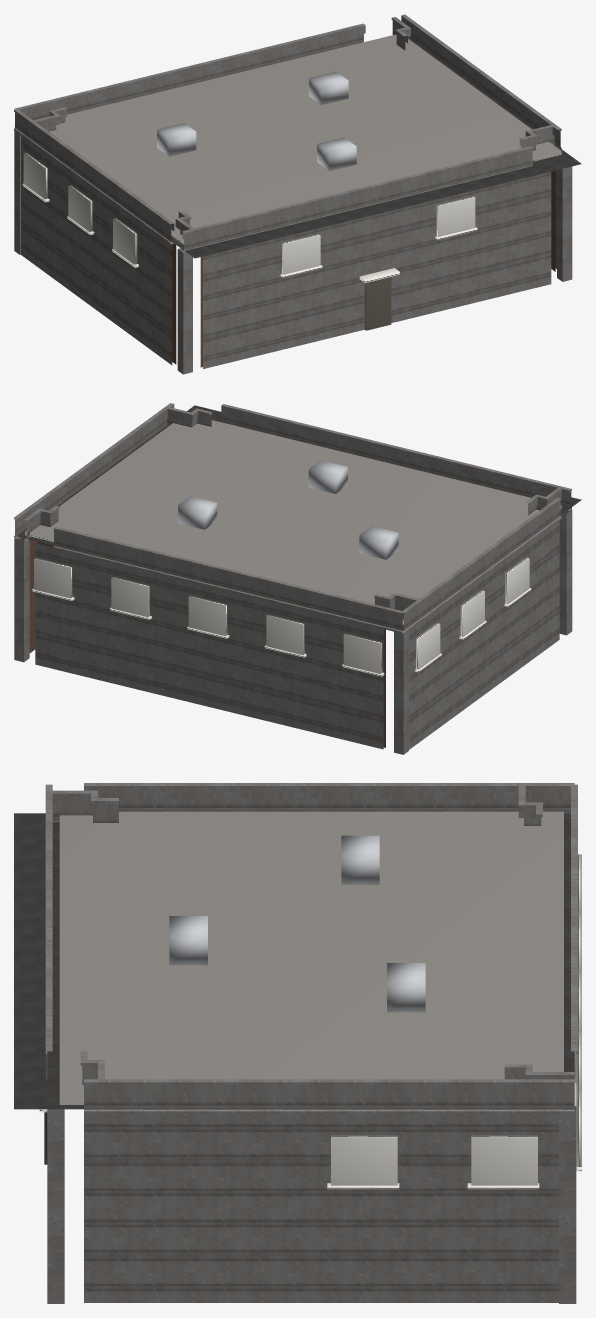
Rendered from b_ware2.gltf.
3 renders of one model, top to bottom at view 1: azimuth 30°, elevation 25°; view 2: azimuth 150°, elevation 25°; view 3: azimuth 270°, elevation 25°, orthographic. The views are drawn at different scales.
Visible parts, largest first — view 1: b_ware2; view 2: b_ware2; view 3: b_ware2.
Boxes of the visible parts, x1,y1,x2,y2 form: b_ware2: (14, 14, 581, 374); b_ware2: (14, 403, 581, 754); b_ware2: (14, 783, 581, 1303).
Size of the model in its own units: 20.48 by 7.3 by 16.21.
9 materials, 3 textured.
